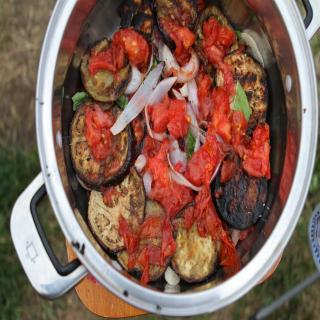tomato: (184, 87, 248, 192), (140, 141, 193, 224), (204, 19, 239, 71), (149, 93, 190, 135), (86, 104, 115, 158), (242, 123, 270, 178), (116, 25, 147, 61)
